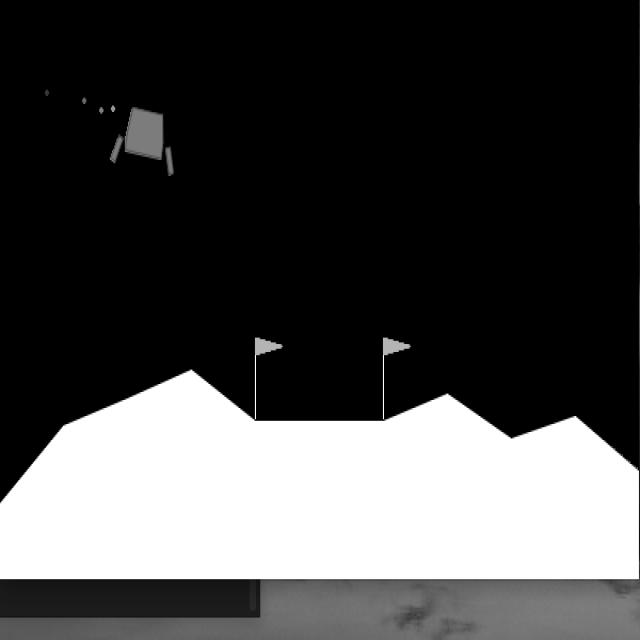lander: (108, 101, 193, 180)
landing_point: (252, 333, 388, 425)
